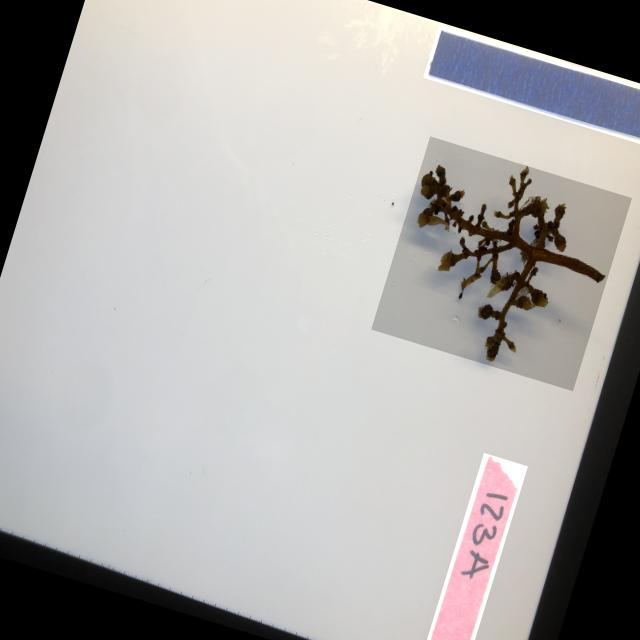index: (417, 452, 526, 640)
measure_label: (421, 24, 640, 149)
rachis_cluster: (370, 136, 630, 390)
